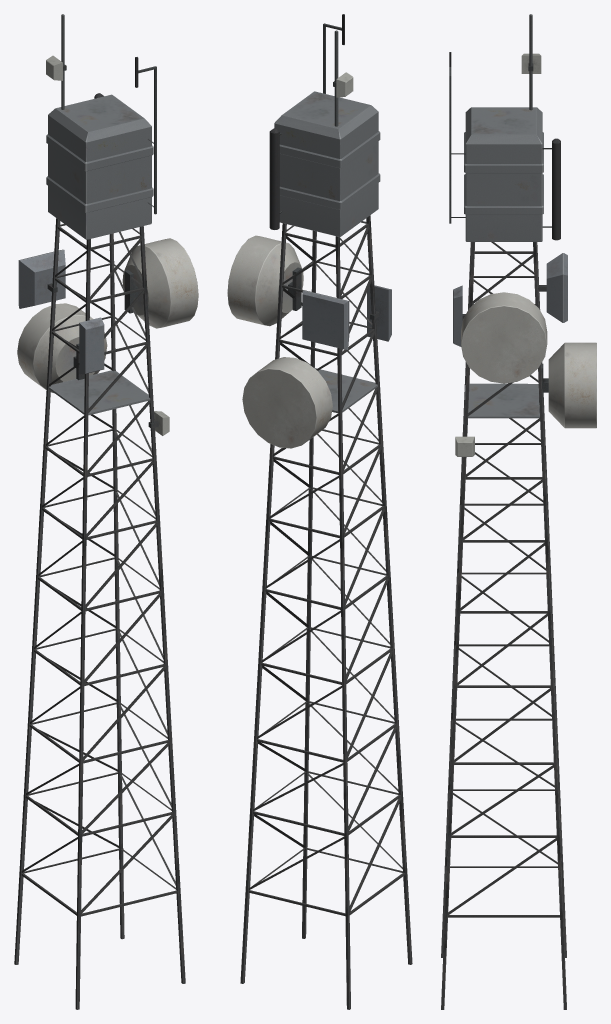
The model's file is Cell_Phone_Antenna.glb.
3 views of the same model, side by side, from view 1: azimuth 30°, elevation 25°; view 2: azimuth 150°, elevation 25°; view 3: azimuth 270°, elevation 25° (orthographic).
Parts seen in each view (by area): view 1: Cell_Phone_Antenna__LOD3; view 2: Cell_Phone_Antenna__LOD3; view 3: Cell_Phone_Antenna__LOD3.
Boxes of the visible parts, x1=… form: Cell_Phone_Antenna__LOD3: x1=14, y1=14, x2=198, y2=1009; Cell_Phone_Antenna__LOD3: x1=227, y1=14, x2=412, y2=1009; Cell_Phone_Antenna__LOD3: x1=441, y1=14, x2=596, y2=1009.
Size of the model in its own units: 0.7178 by 4.97 by 0.7333.
1 material, 1 textured.
